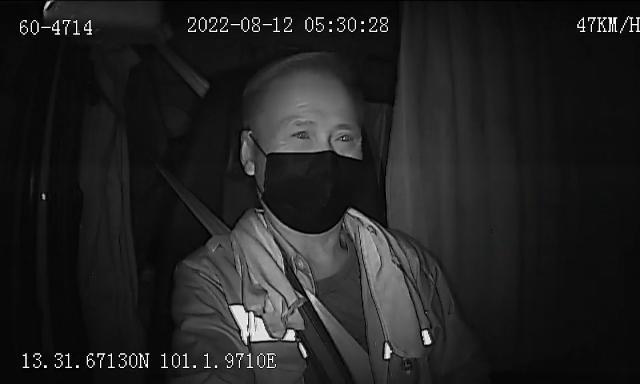SafeDriving: (328, 124, 361, 149), (284, 122, 318, 145)
Seatbelt: (160, 166, 236, 256)
